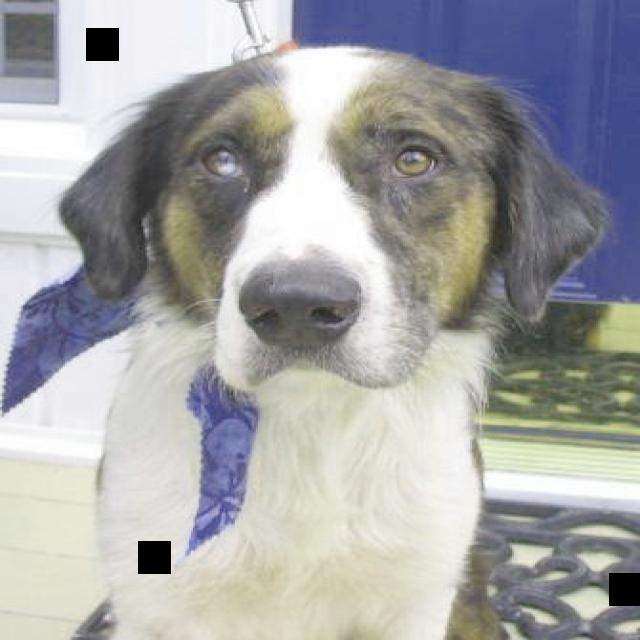adult_dog: (54, 40, 610, 640)
